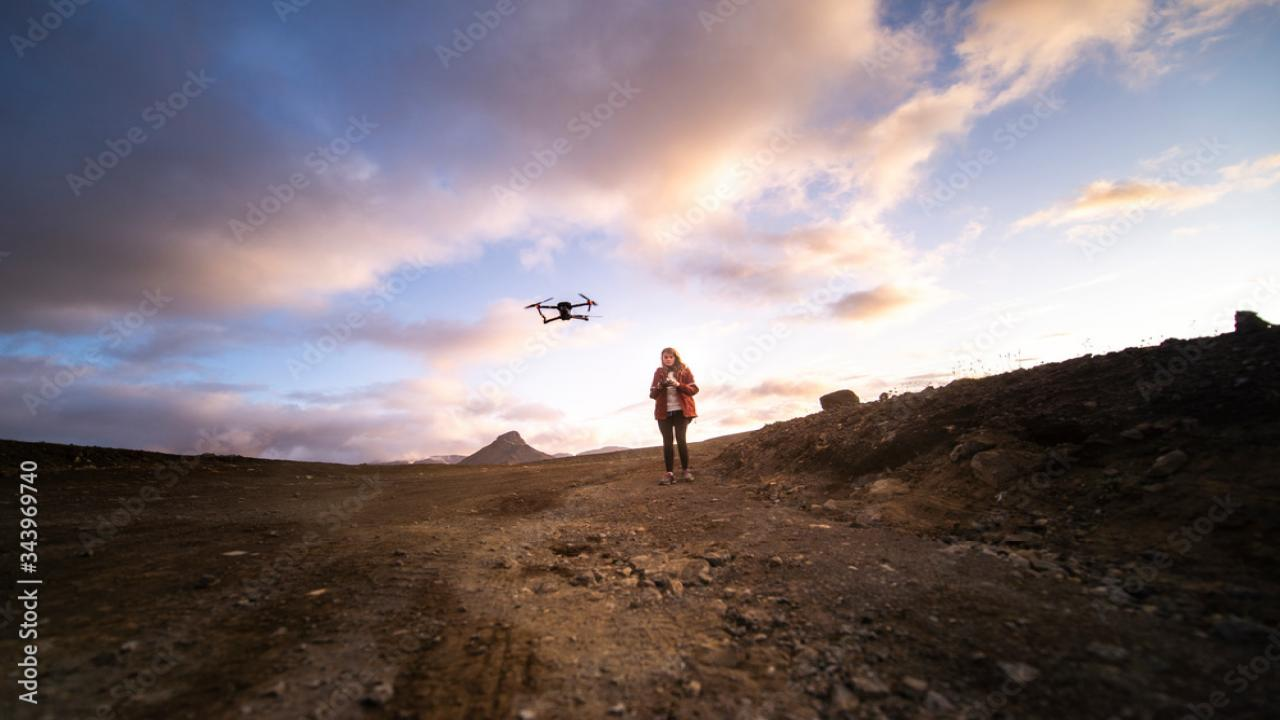Drone: (513, 283, 606, 333)
